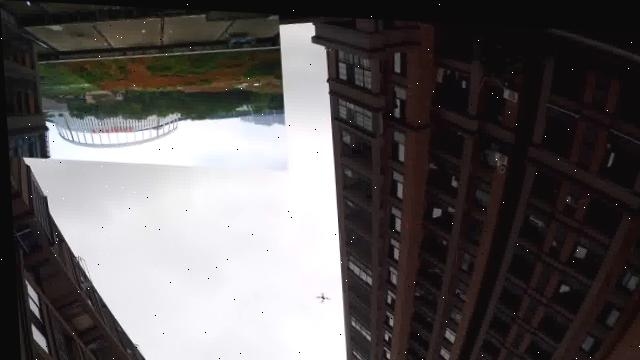drone: (311, 288, 329, 301)
